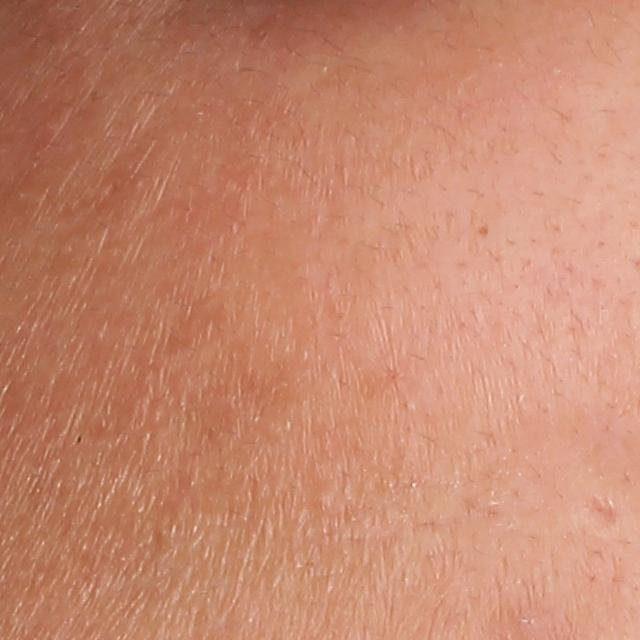atrophic_scar: (590, 491, 619, 532)
comedo: (475, 221, 494, 240)
